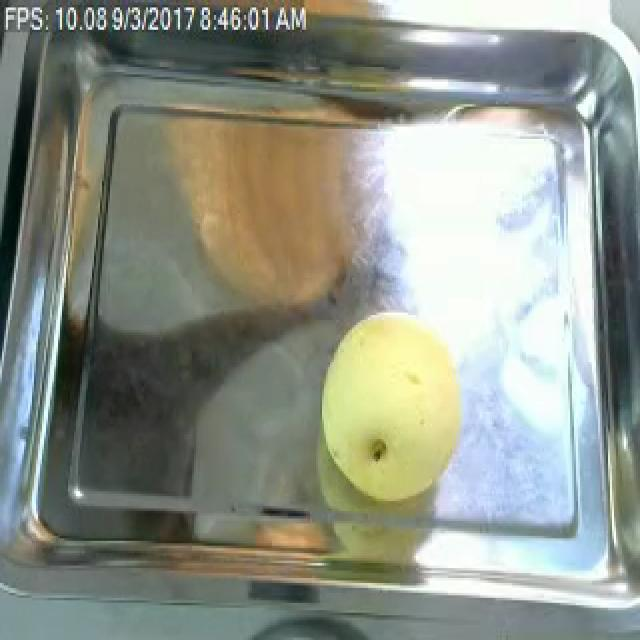Fruit: (174, 80, 386, 322), (310, 303, 472, 511)
